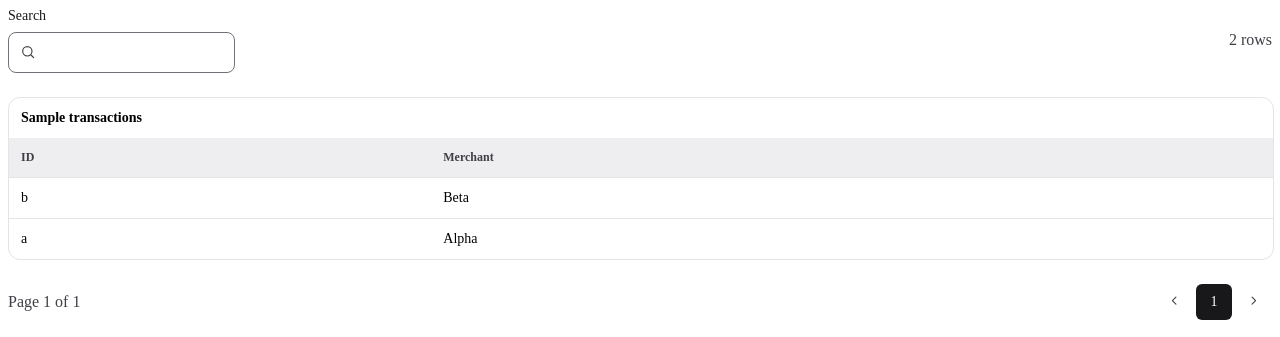
Test: new controls › labels data table cells and sorts from the header
What coordinates should you click on to do the following:
click the button "Merchant"
I would click on:
 (468, 157)
Its box is [443, 150, 494, 165].
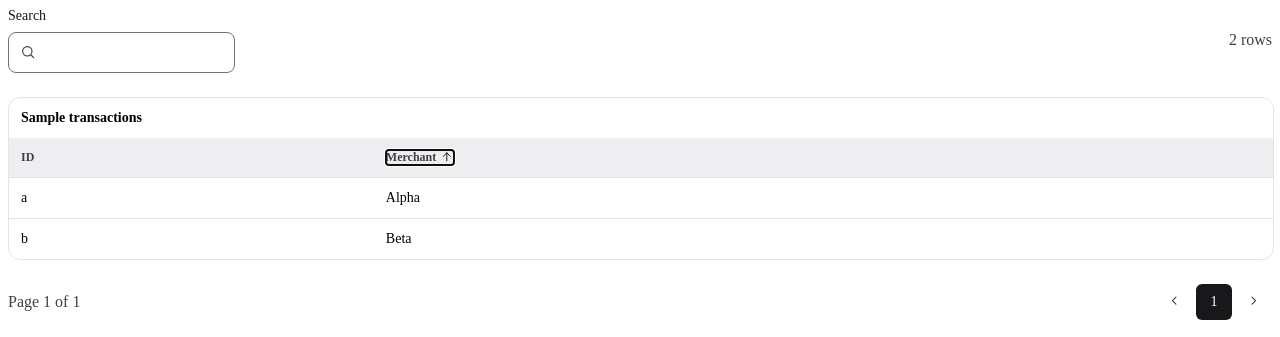
Check: the cell "Alpha" is shown, box [374, 177, 1273, 218]
Check: the 1st icon is shown, box [440, 150, 454, 164]
